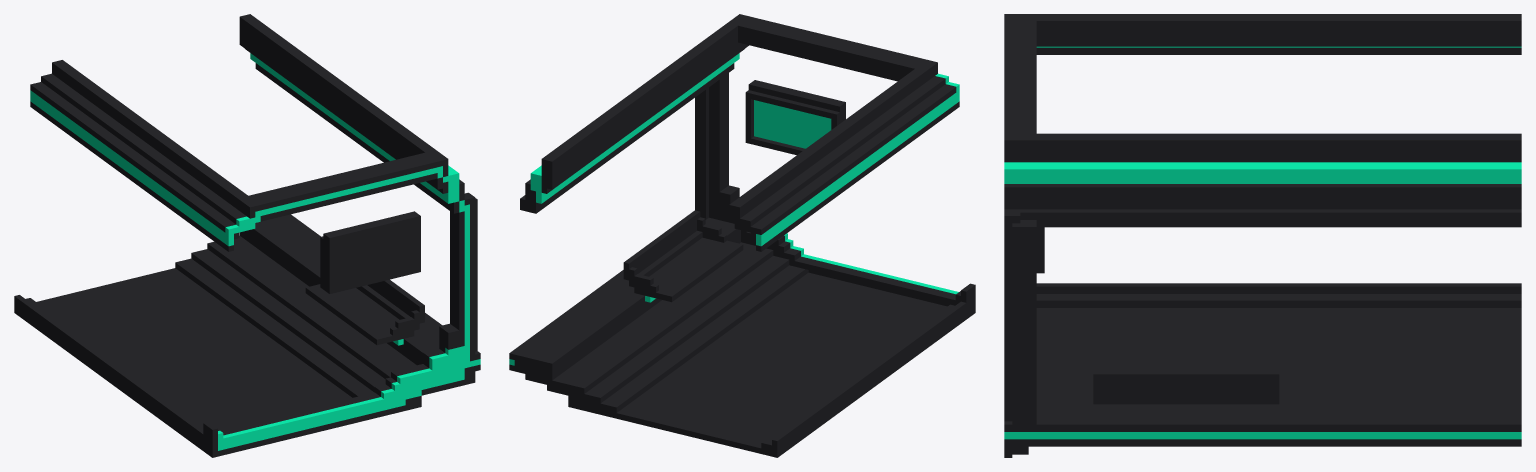
Rendered from BusStop(1)-1.obj.
3 views of the same model, side by side, from view 1: azimuth 30°, elevation 25°; view 2: azimuth 150°, elevation 25°; view 3: azimuth 270°, elevation 25° (orthographic). The views are drawn at different scales.
Size of the model in its own units: 5 by 4.3 by 6.4.
Materials: 1 (1 with a texture image).
